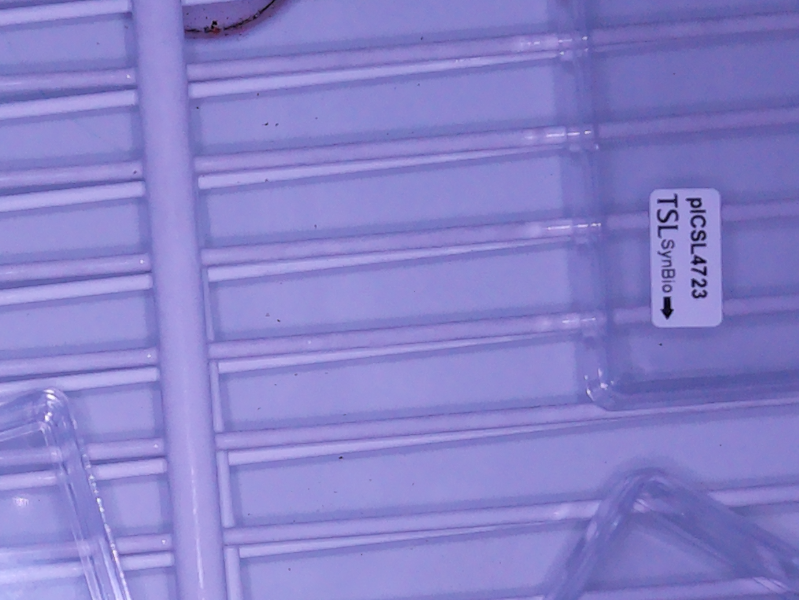plate: (555, 1, 799, 418), (542, 468, 799, 600), (1, 381, 146, 600)
